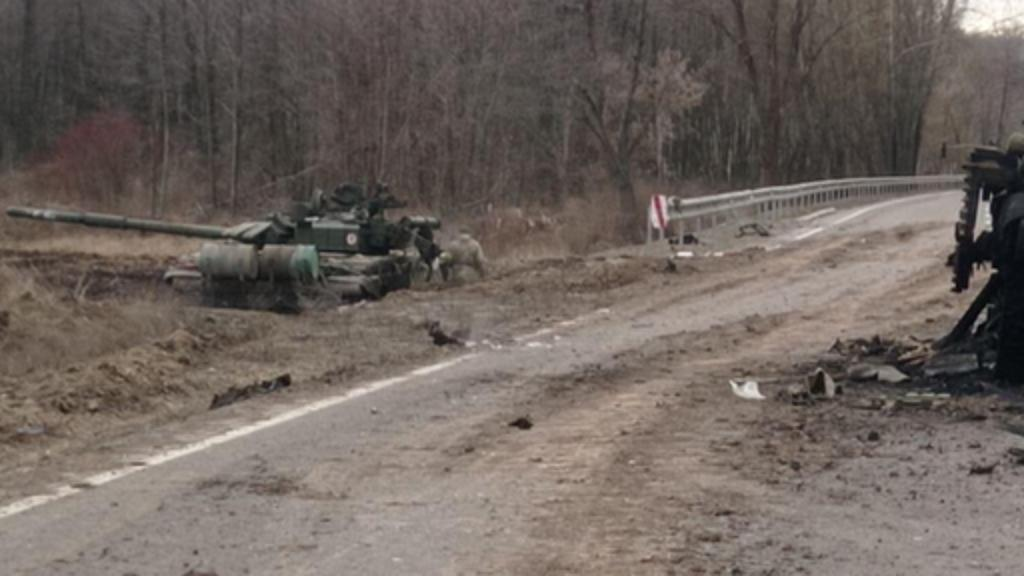TANK: (2, 182, 440, 314)
